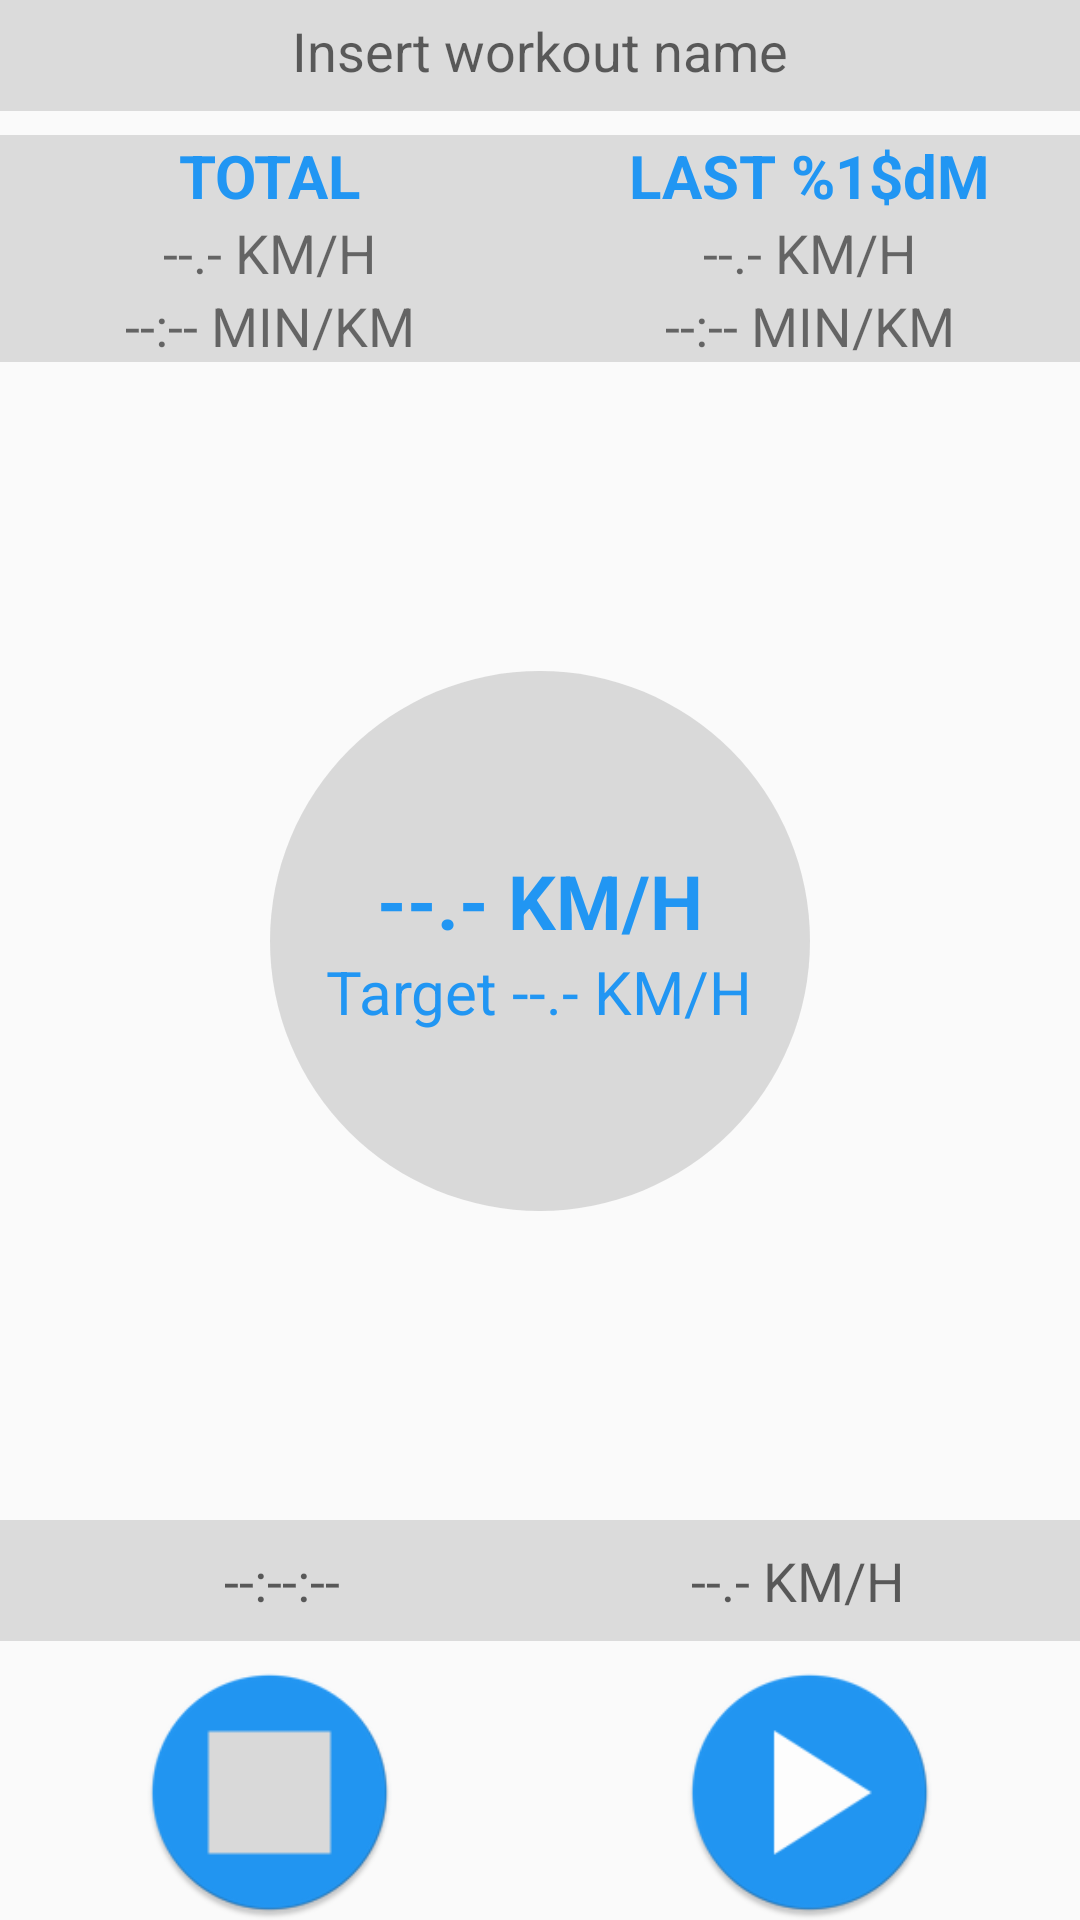

Icon click points for this 1080px×1920px phone screenshot, format (x=x, y=y):
play: (x=809, y=1794)
stopgray: (x=269, y=1794)
